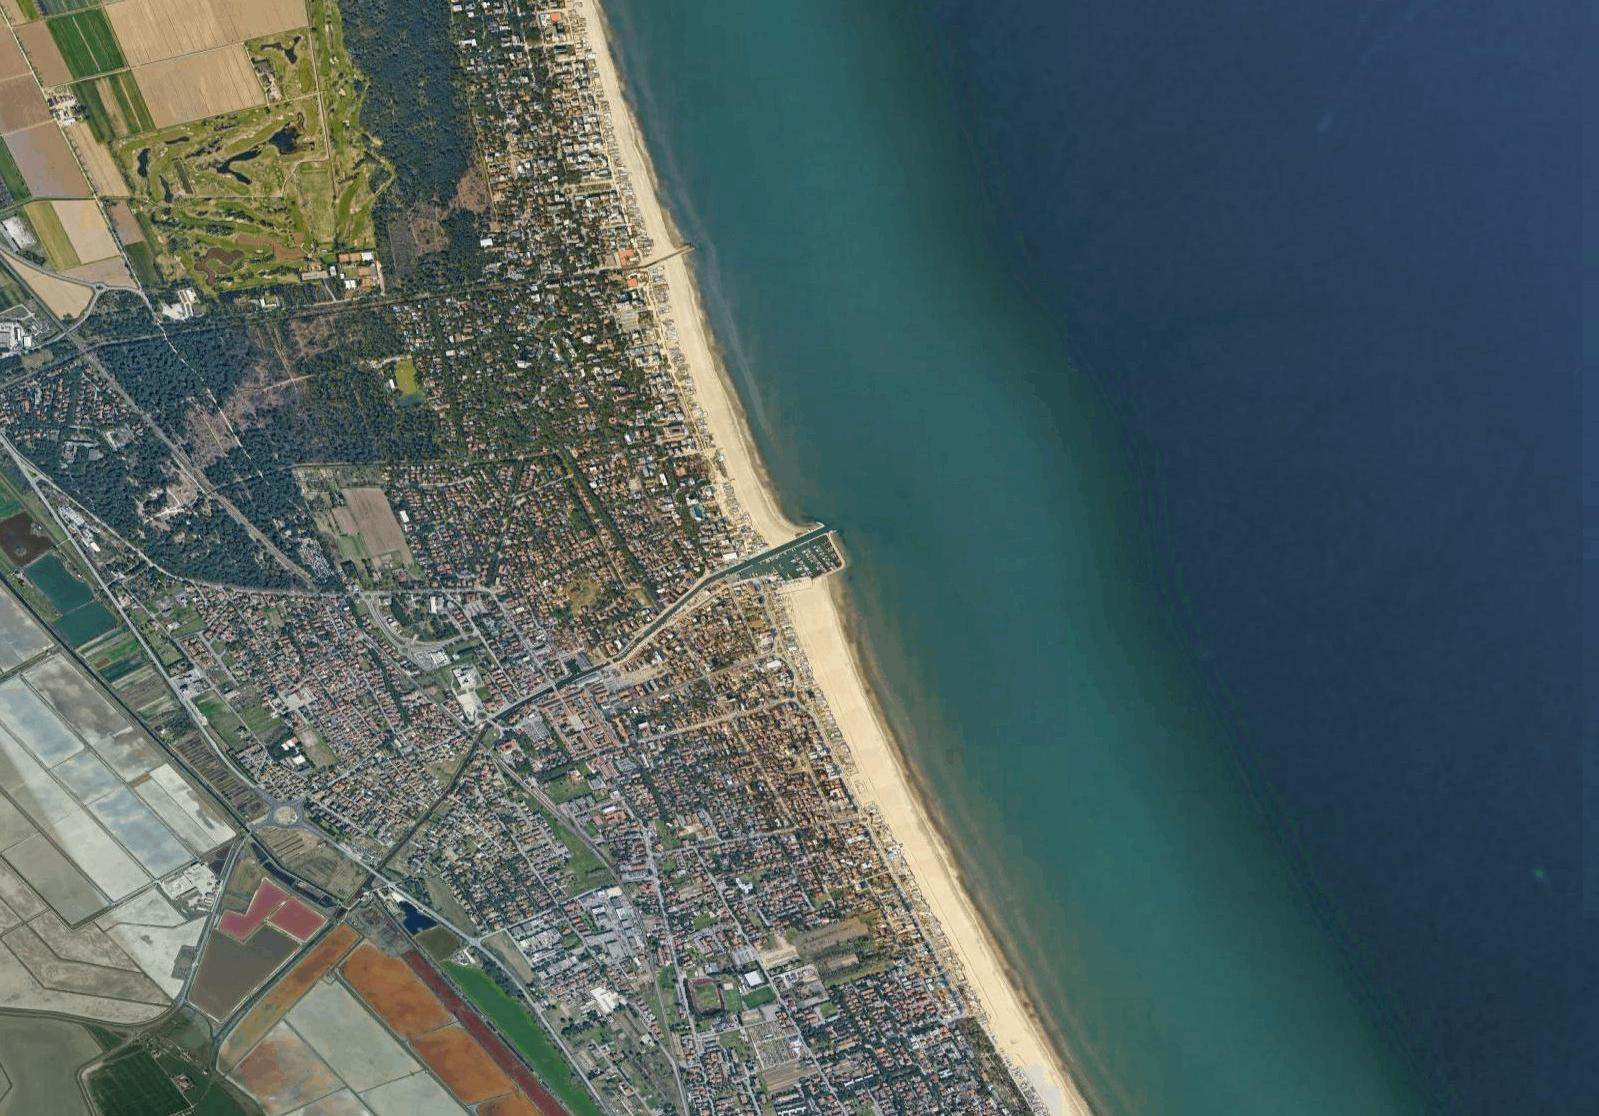harbor: (755, 515, 844, 592)
